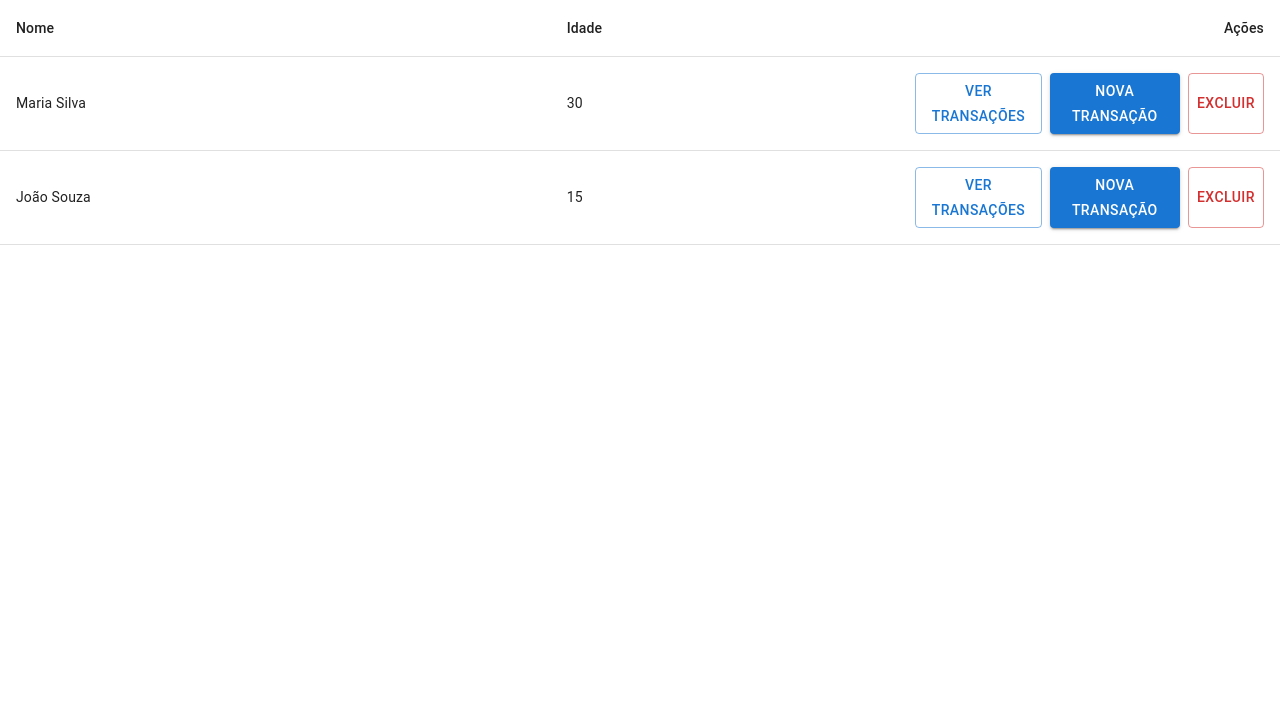
Scenario: PersonTable › abre o dialog de criação de transação ao clicar em nova transação
Click the button "Nova transação" in the row of "Maria Silva" at (1115, 104), box [1050,73,1180,134]
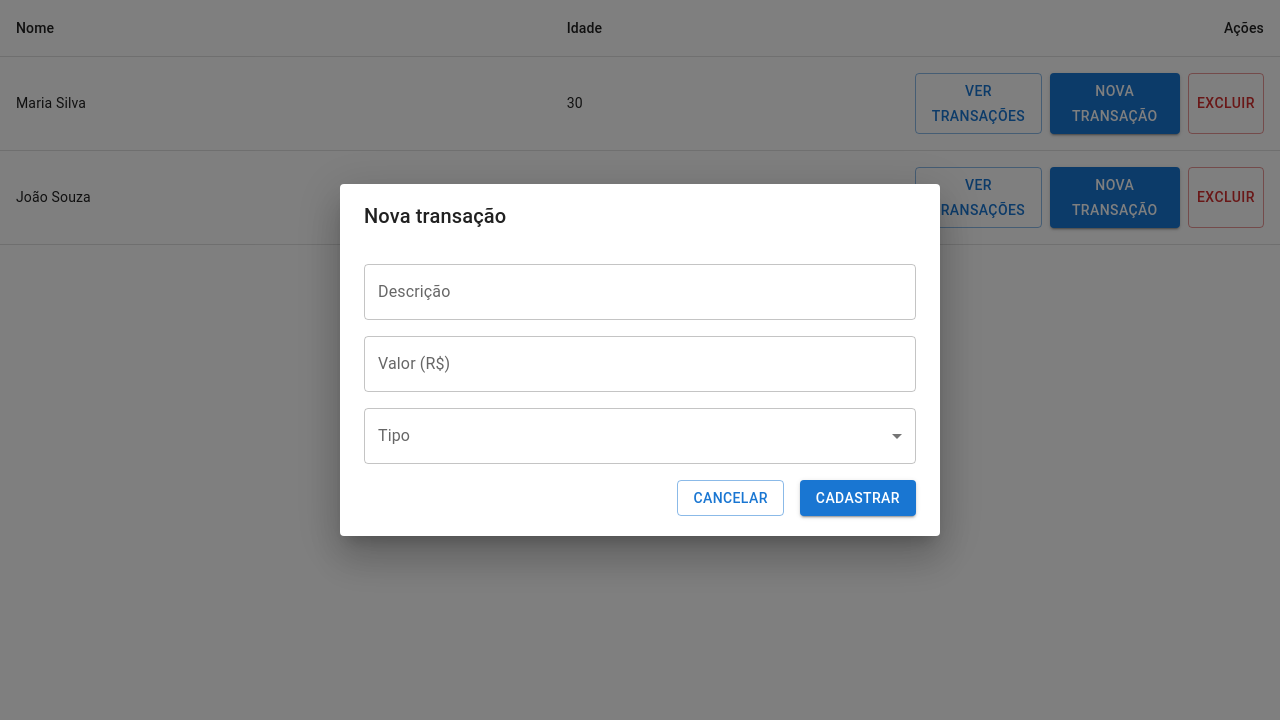
Check: the dialog is shown, box [340,184,940,536]
Check: the heading "Nova transação" is shown, box [364,204,506,228]
